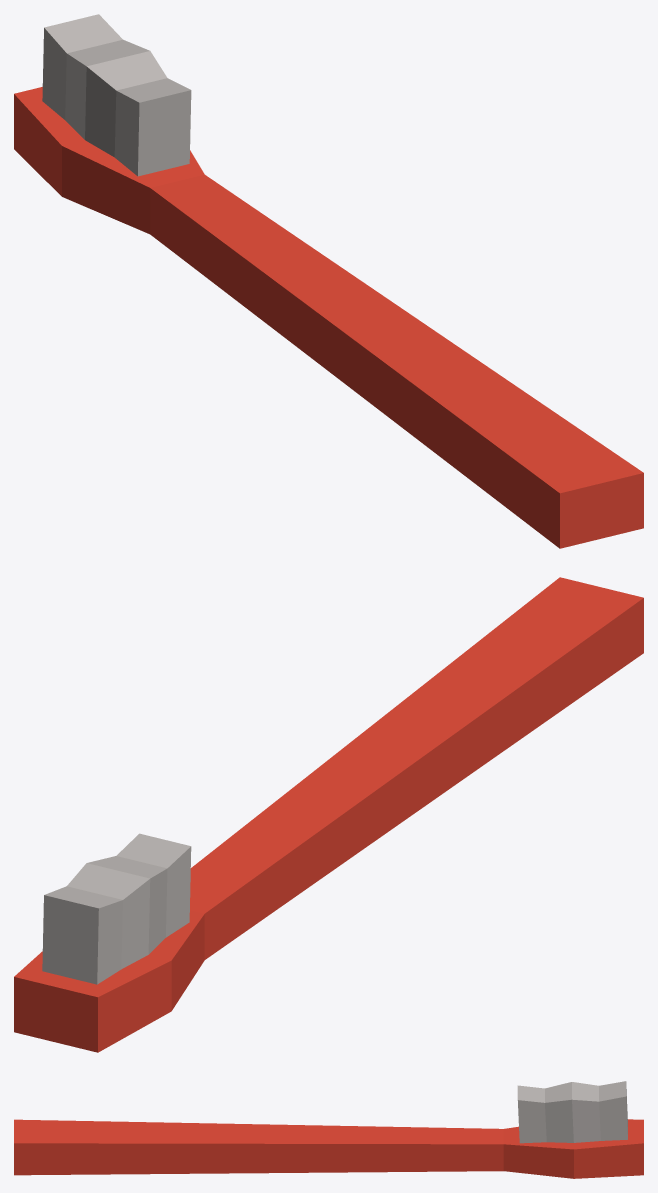
The model's file is furniture_toothbrush.fbx.
The picture shows the model from 3 angles, top to bottom: view 1: azimuth 30°, elevation 25°; view 2: azimuth 150°, elevation 25°; view 3: azimuth 270°, elevation 25°; orthographic projection. The views are drawn at different scales.
Parts seen in each view (by area): view 1: furniture_toothbrush; view 2: furniture_toothbrush; view 3: furniture_toothbrush.
Part boxes in pixels (<box>): furniture_toothbrush: <box>14,14,643,548</box>; furniture_toothbrush: <box>14,577,643,1052</box>; furniture_toothbrush: <box>14,1081,643,1178</box>.
Bounding box in the file's own units: 23.19 × 26.16 × 200.
